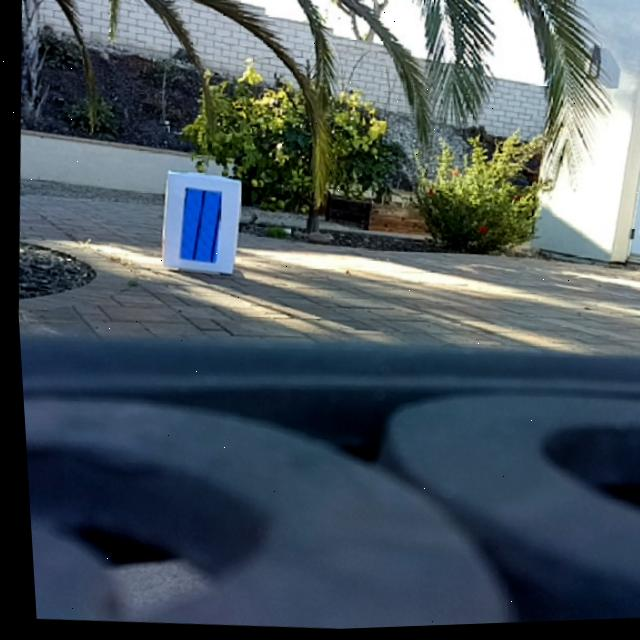led: (174, 187, 220, 263)
